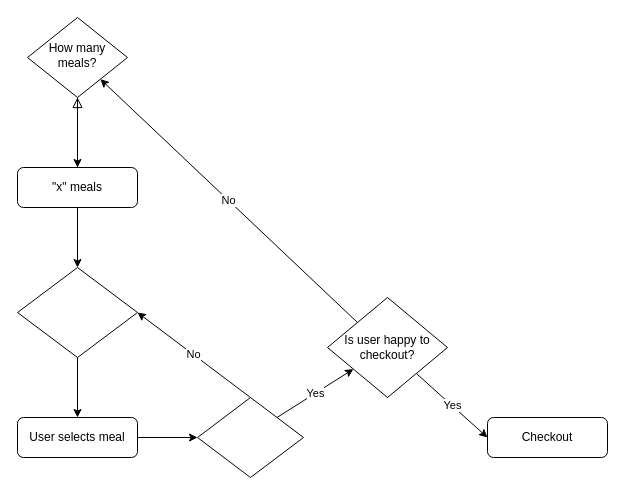
This 625x495 diagram has some shape labels left out. Each missing label, with the box of its shape:
Are all meals selected?: (196, 396, 304, 478)
What selection for this meal?: (16, 266, 138, 358)
